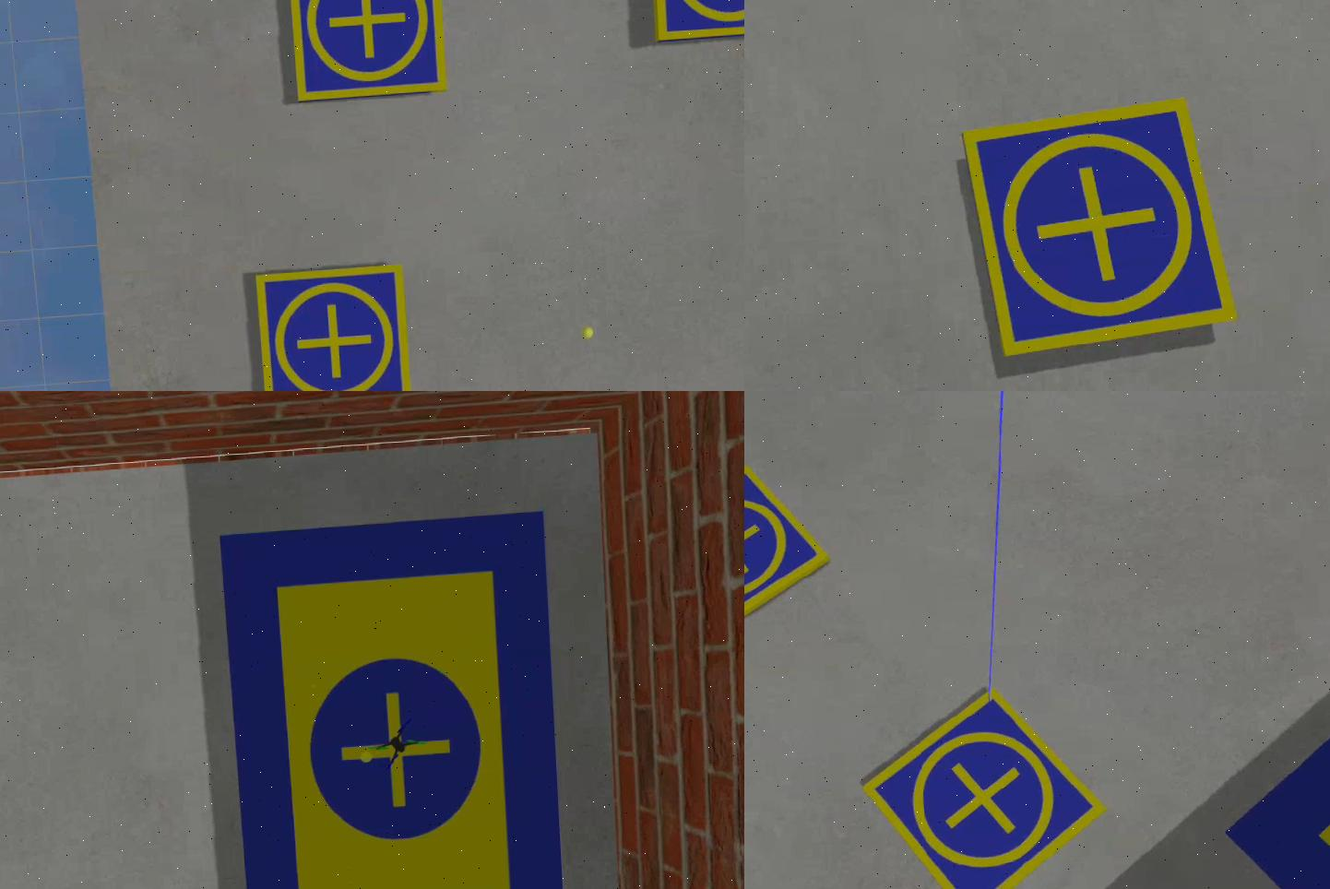large_base: (220, 510, 572, 889)
small_base: (964, 97, 1237, 362), (857, 683, 1114, 889), (256, 265, 417, 392), (745, 464, 837, 647), (288, 1, 451, 104), (648, 1, 745, 42)
